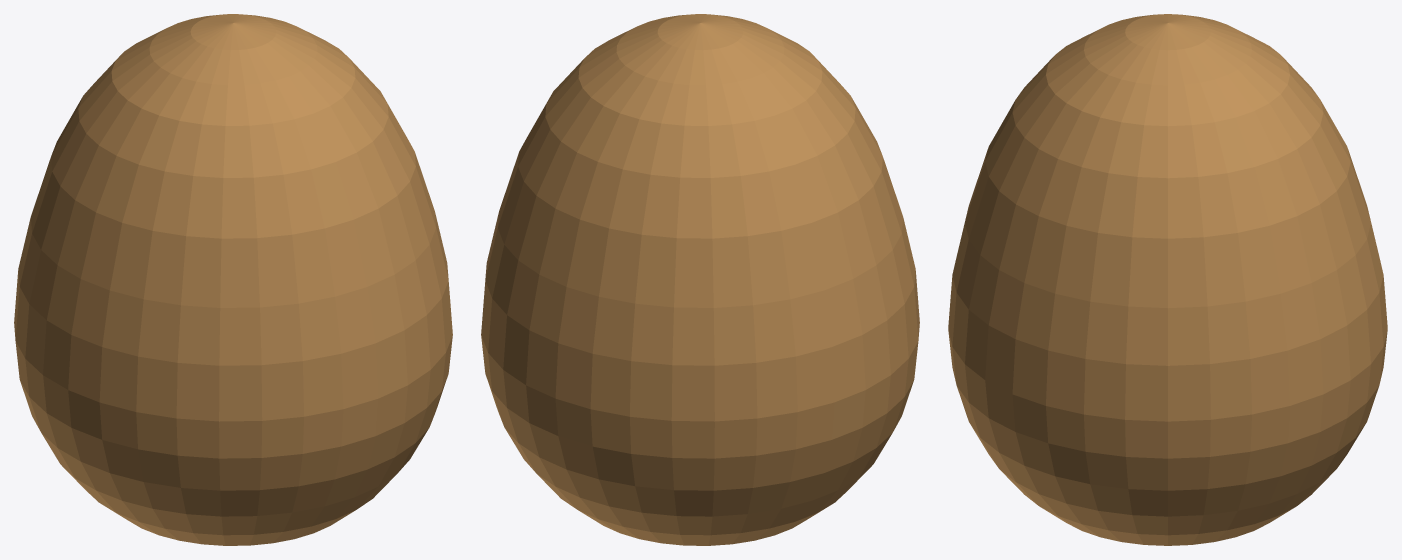
Rendered from Egg.fbx.
3 views of the same model, side by side, from view 1: azimuth 30°, elevation 25°; view 2: azimuth 150°, elevation 25°; view 3: azimuth 270°, elevation 25° (orthographic).
Visible parts, largest first — view 1: Sphere; view 2: Sphere; view 3: Sphere.
Part boxes in pixels (x1,y1,x2,y2): Sphere: (14, 14, 452, 545); Sphere: (481, 14, 919, 545); Sphere: (948, 14, 1387, 545).
Bounding box in the file's own units: 200 × 250 × 200.
